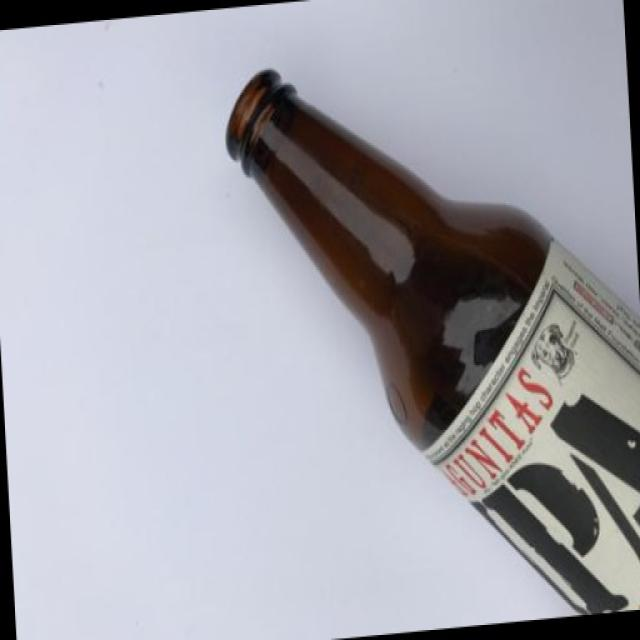vidrio: (196, 38, 640, 640)
